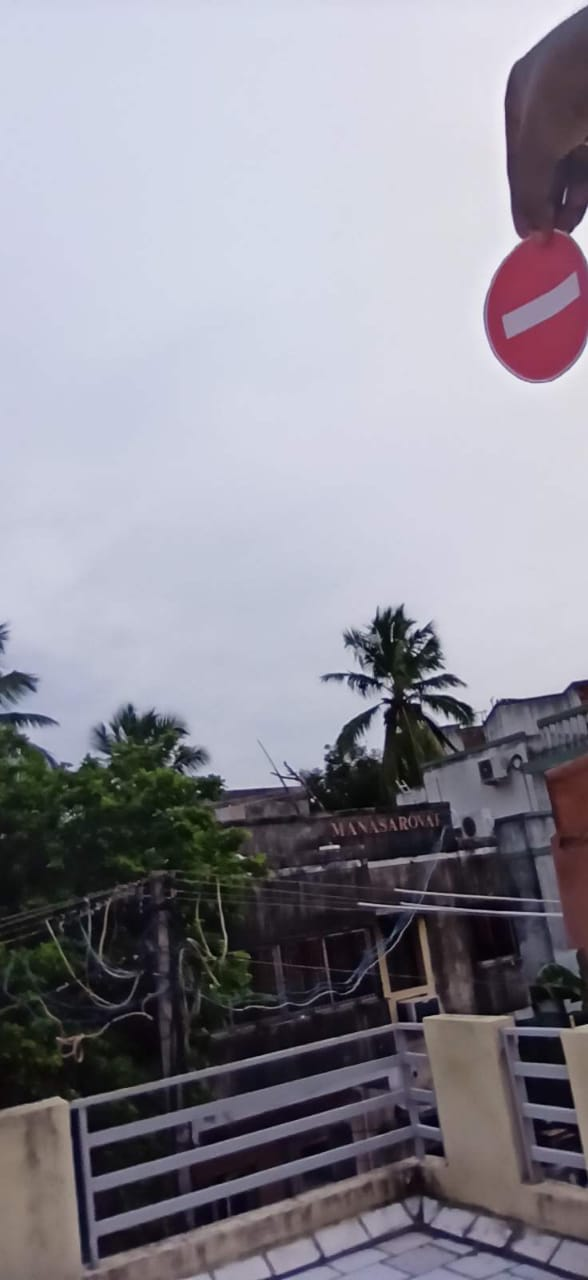NO ENTRY: (466, 222, 586, 390)
